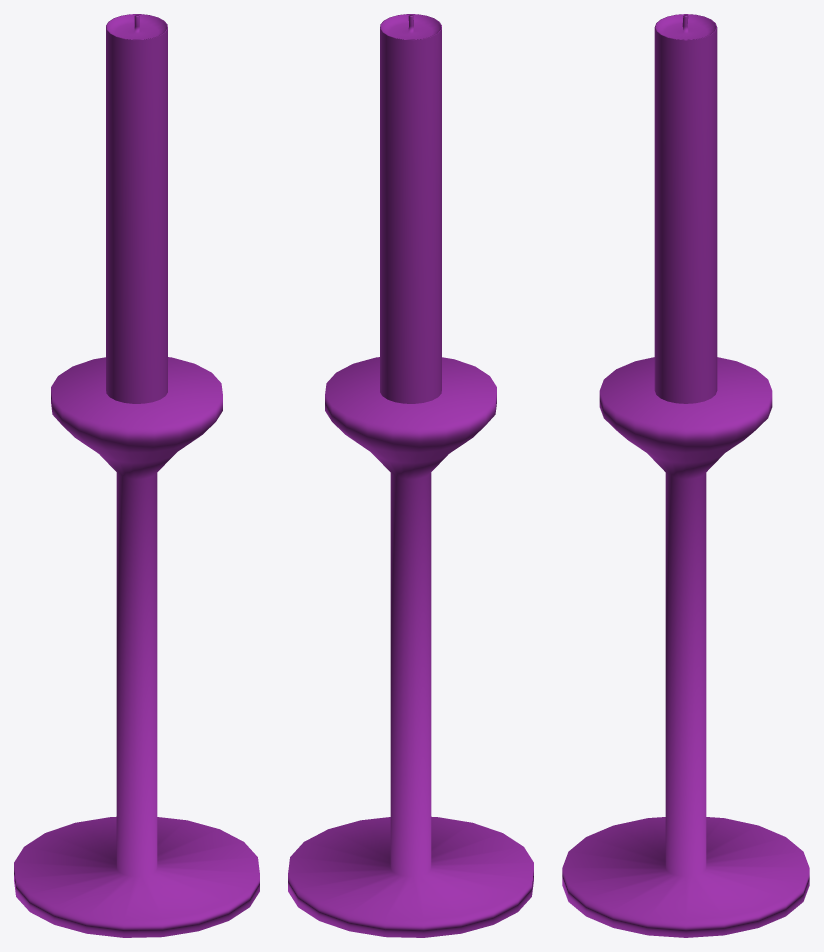
The model's file is Candle.fbx.
The picture shows the model from 3 angles, left to right: view 1: azimuth 30°, elevation 25°; view 2: azimuth 150°, elevation 25°; view 3: azimuth 270°, elevation 25°; orthographic projection.
Parts seen in each view (by area): view 1: pCylinder4, pCylinder3; view 2: pCylinder4, pCylinder3; view 3: pCylinder4, pCylinder3.
Part boxes in pixels (x1,y1,x2,y2): pCylinder4: [14, 357, 259, 937]; pCylinder3: [106, 14, 167, 403]; pCylinder4: [288, 357, 533, 937]; pCylinder3: [380, 14, 441, 403]; pCylinder4: [562, 357, 809, 937]; pCylinder3: [654, 14, 717, 403].
Bounding box in the file's own units: 2.47 × 9.57 × 2.47.
